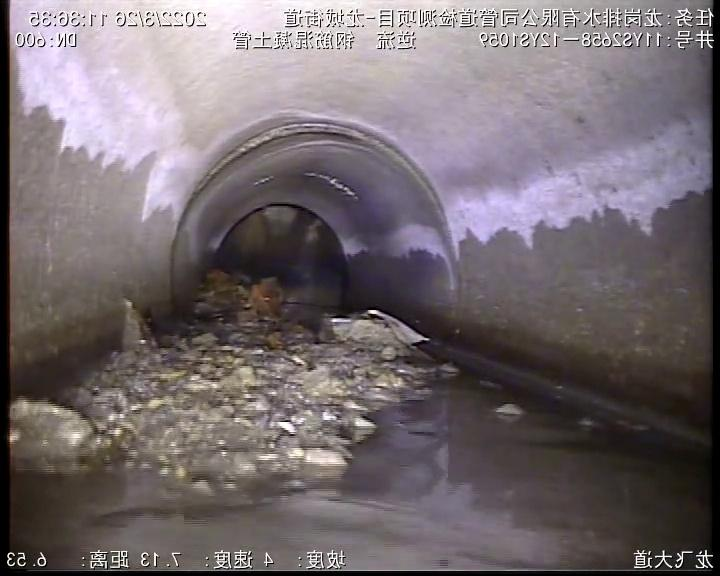CJ: (11, 271, 458, 495)
CKTJ: (166, 120, 468, 343)
